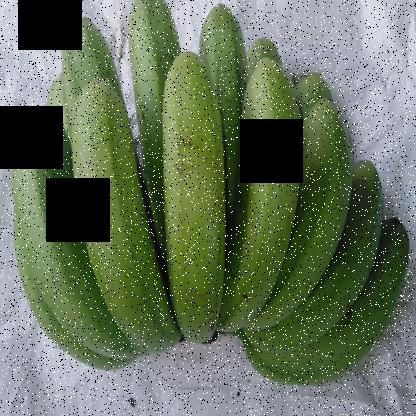freshunripe: (71, 69, 174, 360), (9, 97, 104, 376), (160, 47, 234, 358), (227, 54, 301, 326), (282, 98, 356, 309), (353, 225, 415, 379), (326, 164, 388, 316), (120, 0, 187, 119), (48, 0, 119, 104), (200, 0, 246, 88)
